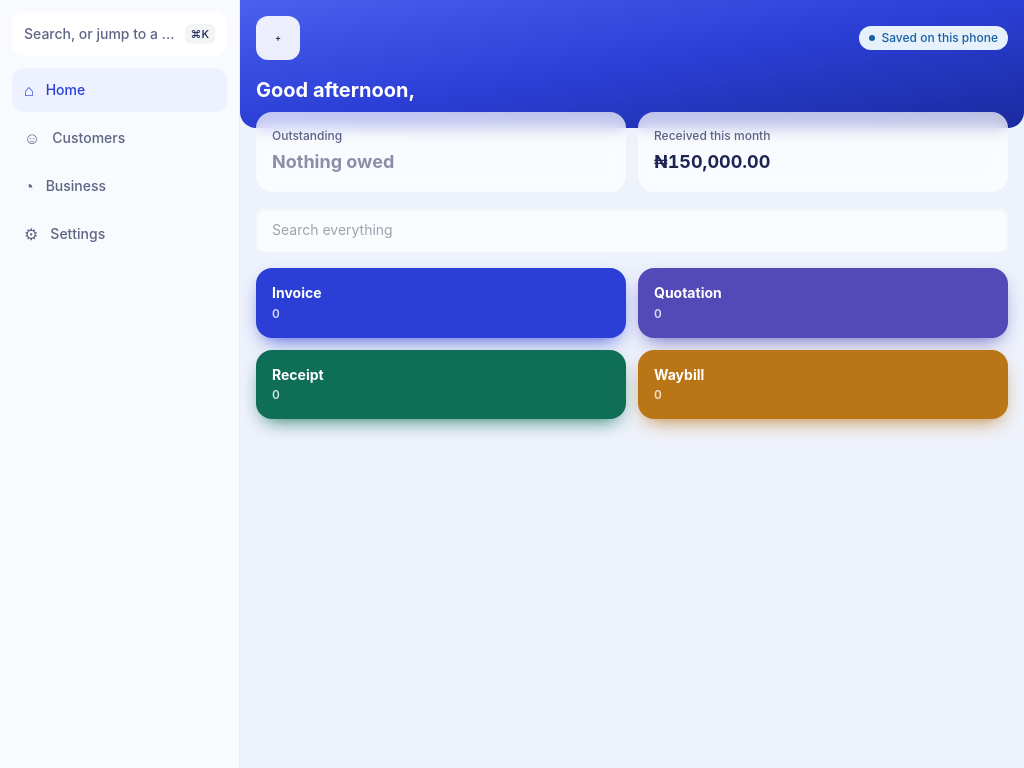
Test case: The tab bar (§G) › moves between pages
Click the link "◔ Business". click: (65, 186)
box: [24,176,106,196]
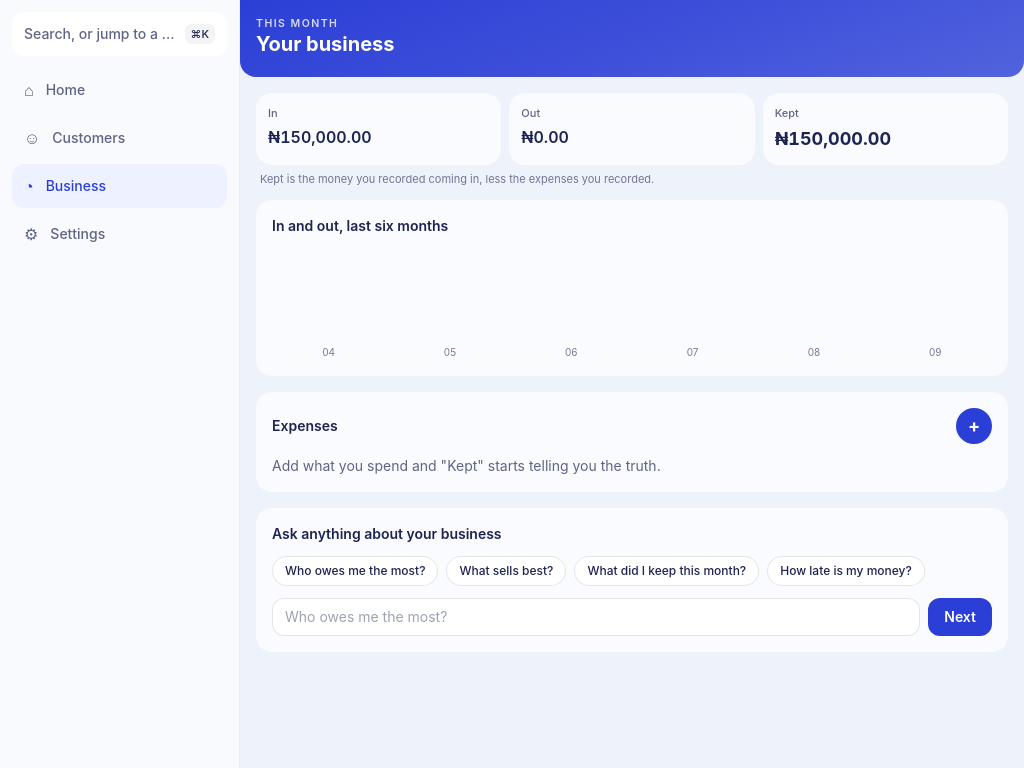
Expected: the element labelled "Kept" is shown, [763,93,1008,165]
